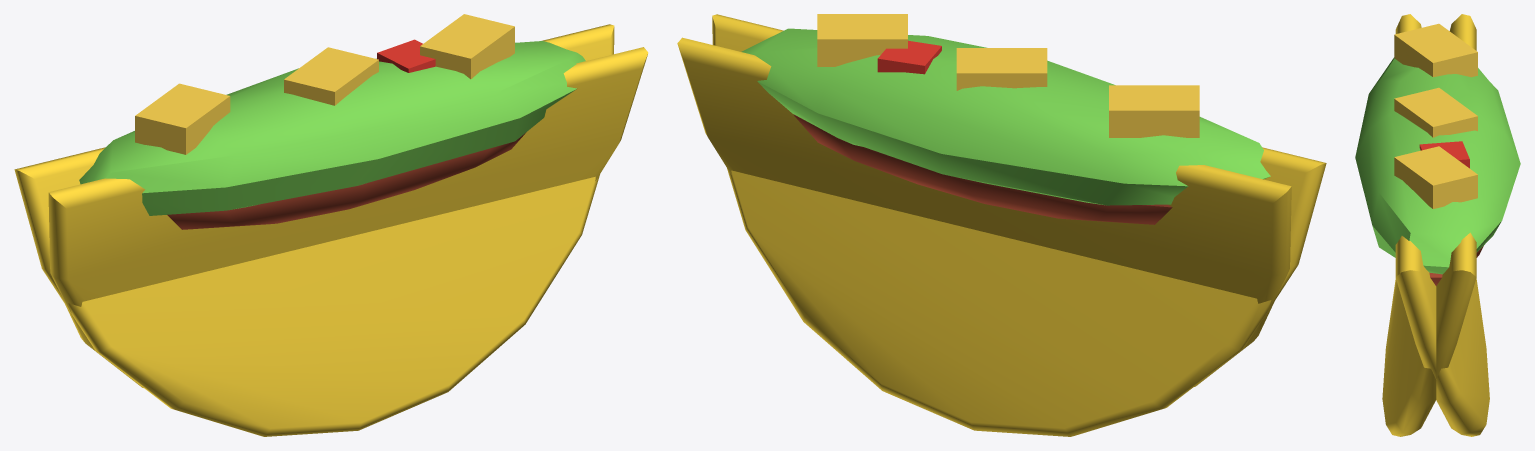
The model's file is Taco.fbx.
3 views of the same model, side by side, from view 1: azimuth 30°, elevation 25°; view 2: azimuth 150°, elevation 25°; view 3: azimuth 270°, elevation 25° (orthographic). The views are drawn at different scales.
Parts seen in each view (by area): view 1: Taco; view 2: Taco; view 3: Taco.
Boxes of the visible parts, bbox=[...] form: Taco: bbox=[14, 14, 648, 436]; Taco: bbox=[677, 14, 1326, 436]; Taco: bbox=[1355, 14, 1520, 436].
Size of the model in its own units: 1.4 by 0.7724 by 0.3823.
Materials: 1 (1 with a texture image).
